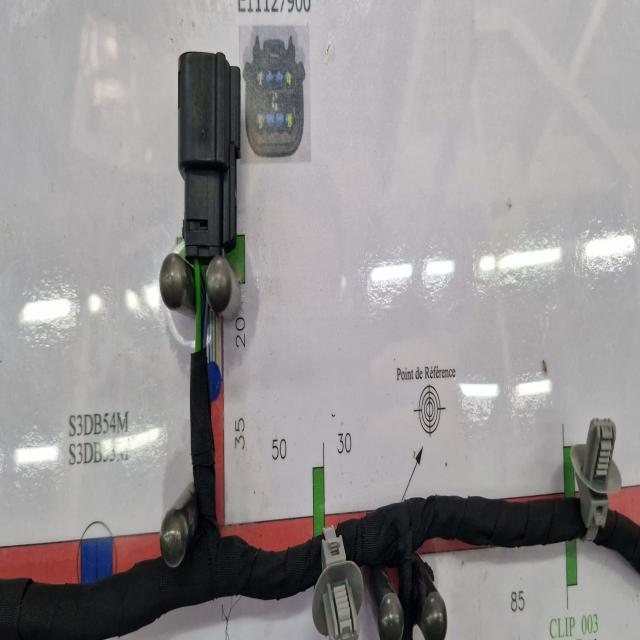Clip: (571, 418, 621, 540), (312, 527, 362, 640)
Connector: (178, 52, 240, 261)
Gape: (189, 251, 215, 366)
MHEV_N11_Cable: (0, 350, 322, 640), (339, 497, 586, 638), (598, 513, 640, 573)
